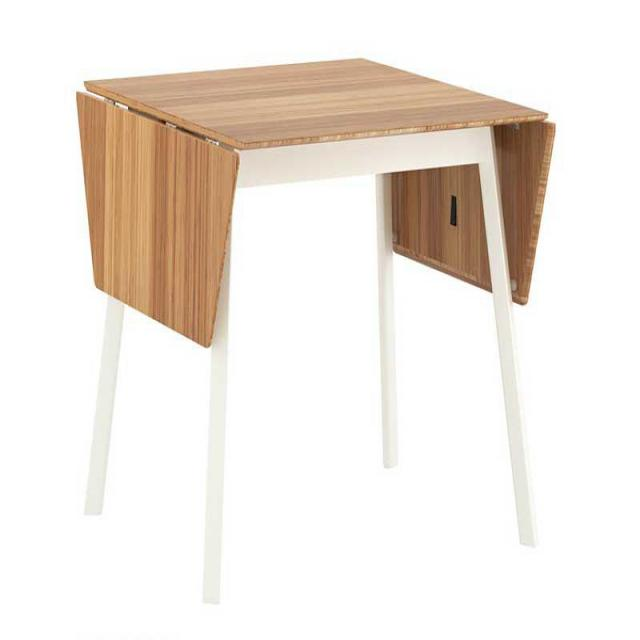Table: (9, 32, 614, 619)
